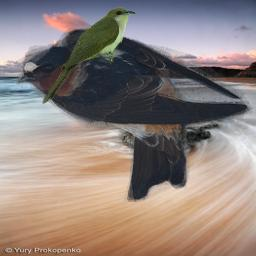Cuckoo: (42, 7, 136, 105)
Swallow: (16, 25, 253, 202)
